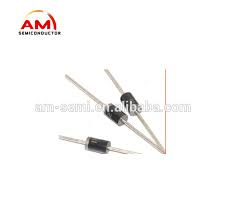diode: (75, 127, 121, 173)
